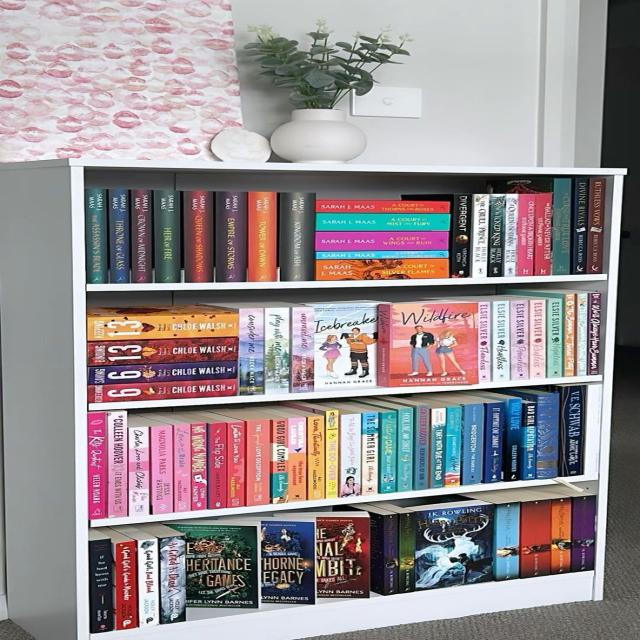book: (88, 337, 237, 366), (88, 314, 236, 340), (88, 361, 237, 386), (279, 192, 315, 281), (315, 258, 449, 280), (216, 192, 246, 282), (247, 192, 277, 281), (184, 191, 212, 282), (154, 190, 181, 283), (316, 213, 449, 230), (106, 411, 127, 518), (316, 232, 448, 249), (264, 308, 290, 394), (245, 419, 270, 506), (238, 309, 263, 395), (89, 540, 112, 632), (290, 306, 314, 392), (88, 412, 107, 520), (150, 425, 173, 514), (524, 502, 551, 576), (86, 188, 107, 283), (562, 386, 584, 476), (109, 189, 130, 283), (161, 538, 185, 620), (128, 428, 150, 517), (130, 189, 150, 283), (496, 503, 520, 580), (137, 541, 158, 626), (116, 542, 136, 630), (571, 496, 594, 572), (316, 200, 449, 213), (538, 393, 558, 478), (470, 194, 490, 277), (510, 297, 530, 380), (450, 195, 470, 277), (207, 423, 226, 509), (554, 178, 570, 275), (491, 300, 510, 381), (226, 422, 244, 507), (550, 498, 570, 574), (288, 418, 306, 501), (173, 425, 190, 511), (190, 424, 207, 510), (573, 178, 588, 274), (463, 404, 481, 484), (342, 414, 359, 496), (590, 178, 604, 274), (518, 193, 534, 276), (272, 420, 288, 502), (486, 402, 502, 482), (380, 413, 396, 492), (530, 300, 546, 378), (400, 514, 416, 592), (536, 194, 551, 276), (588, 293, 603, 374), (414, 404, 428, 490), (445, 407, 460, 487), (316, 250, 448, 259), (489, 193, 503, 277), (521, 403, 536, 480), (309, 417, 323, 499), (363, 414, 377, 496), (508, 397, 521, 482), (326, 411, 338, 498), (387, 514, 400, 593), (431, 409, 444, 487), (548, 301, 561, 377), (478, 301, 490, 383), (399, 409, 411, 491), (505, 194, 516, 276), (564, 294, 574, 376), (577, 294, 586, 376)
